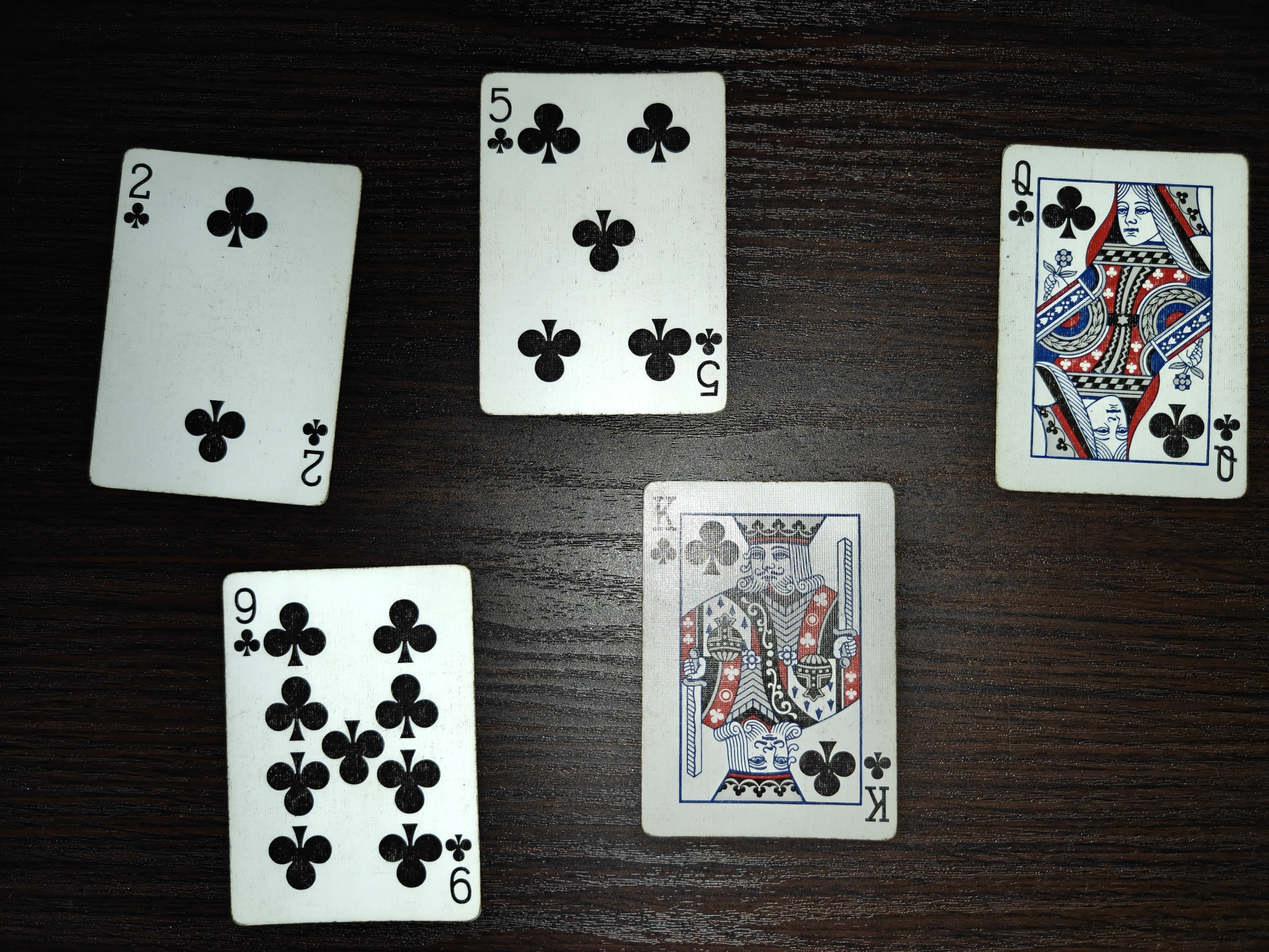2C: (90, 147, 363, 507)
5C: (477, 71, 729, 416)
9C: (220, 563, 482, 928)
KC: (642, 476, 901, 842)
QC: (996, 140, 1249, 500)
